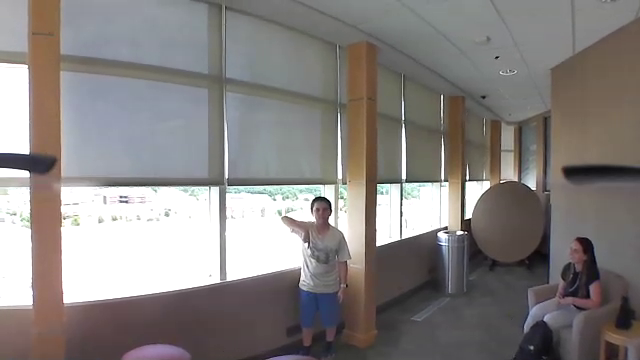down: (295, 224, 313, 252)
